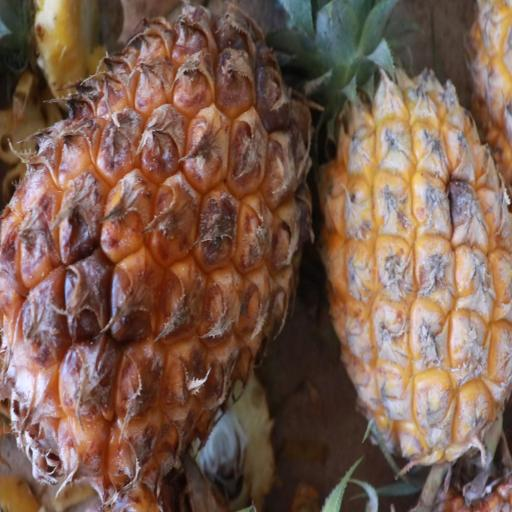Pineapple - v8 v1: (0, 0, 325, 501), (316, 3, 512, 481)
